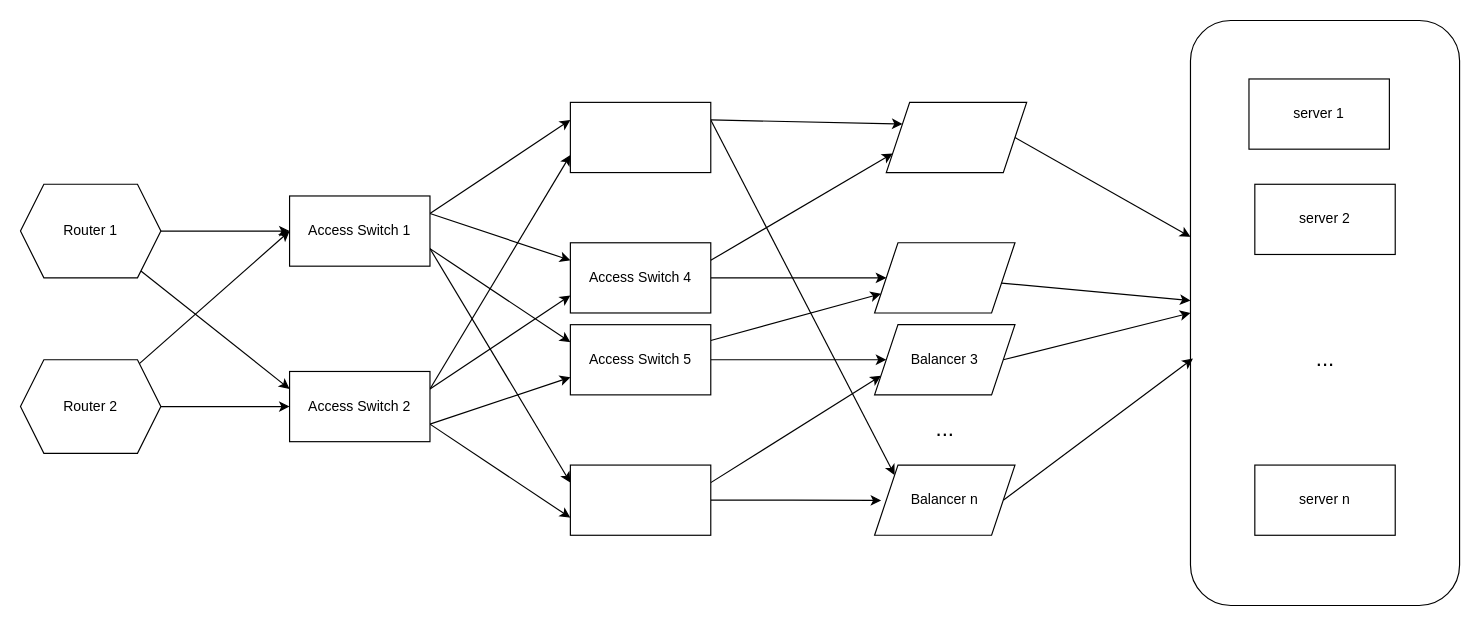
Image size: 1480x626. Some labels were removed from this diagram. Each missing label, with the centre of its shape:
Access Switch 3: [640,137]
Access Switch 6: [640,499]
Balancer 1: [956,137]
Balancer 2: [944,277]
